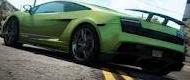back_view: (118, 10, 190, 72)
backlight: (120, 14, 143, 29)
side_glass: (26, 1, 91, 14)
